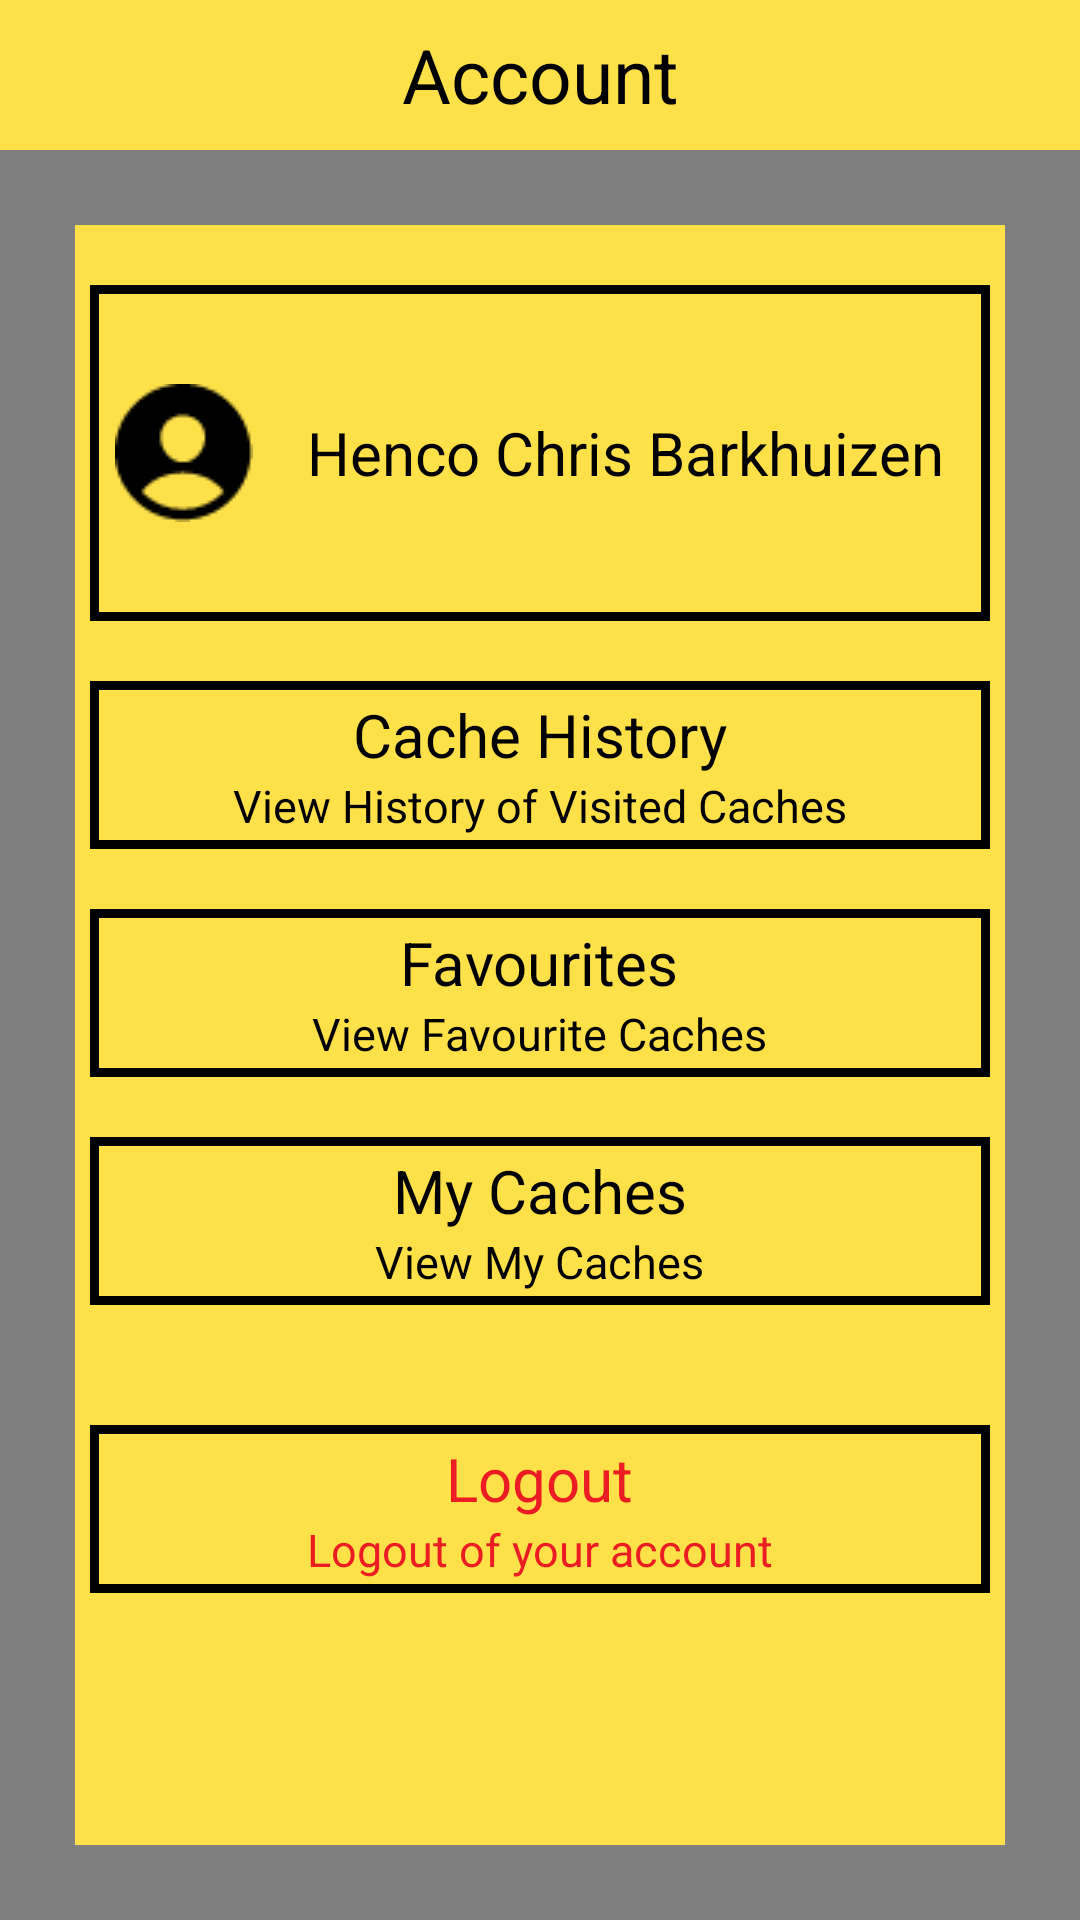

Icons on this 1080w x 1920h Android screen, each with the point to tap as point (x, y):
account: point (184, 453)
